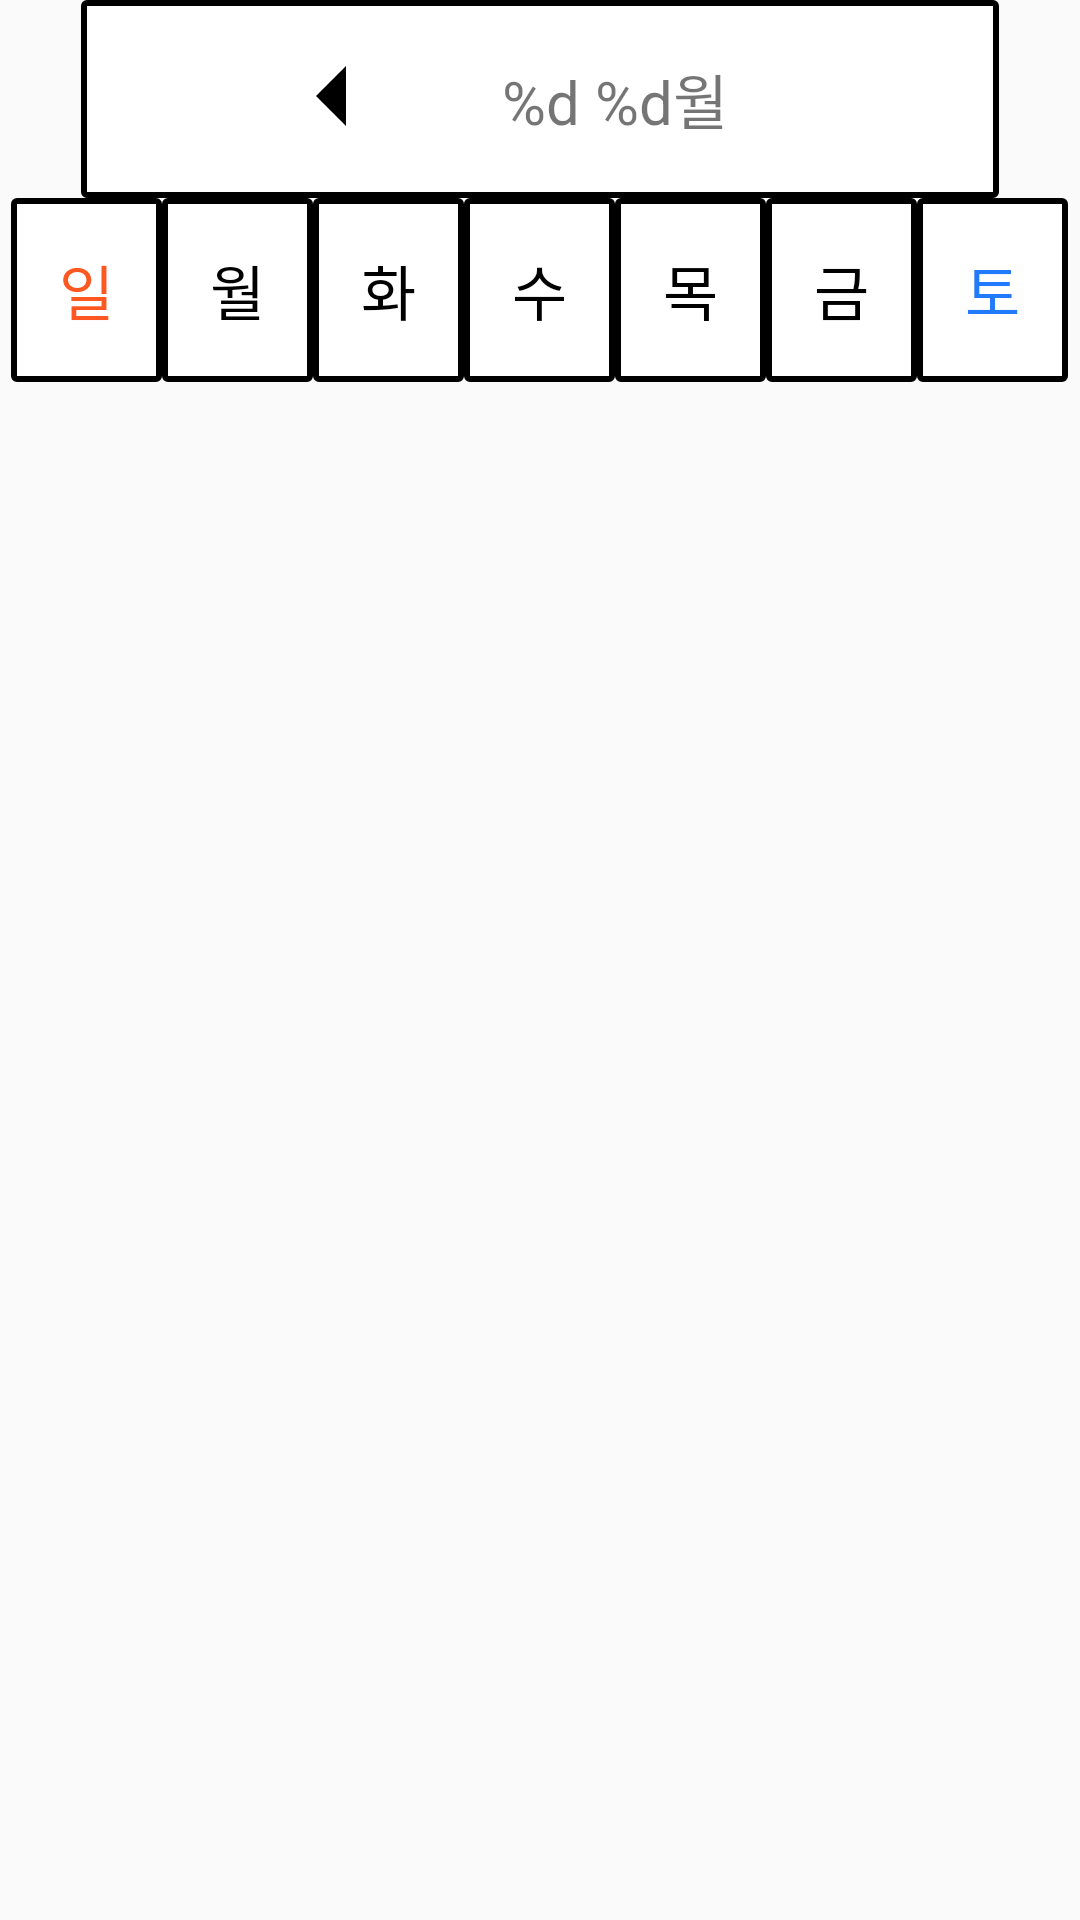

Screen size 1080px×1920px. Icon name, then its box in pixels as (x1, y1, x2, y2):
calendar left: (316, 66, 346, 126)
